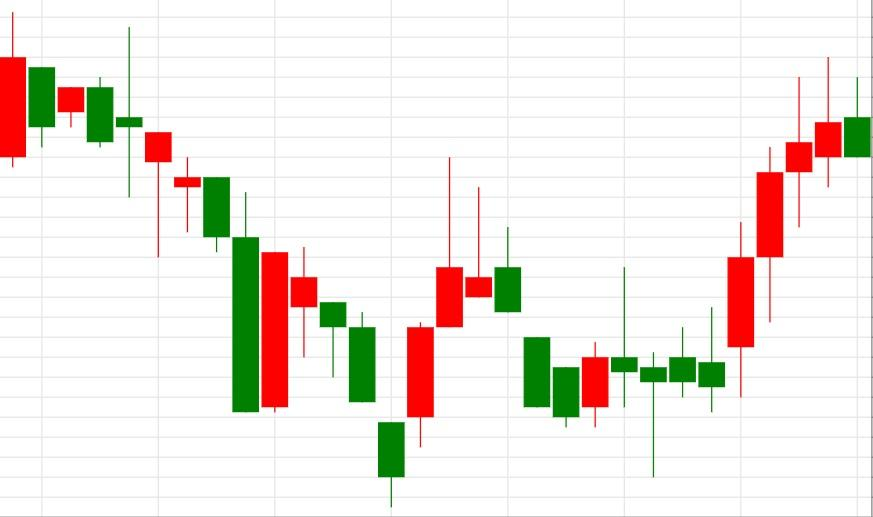shooting_star_fall: (377, 157, 493, 507)
